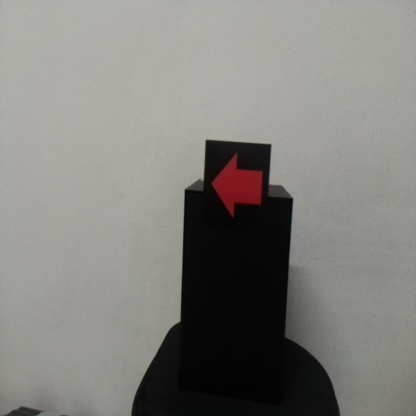id_4: (206, 142, 270, 233)
